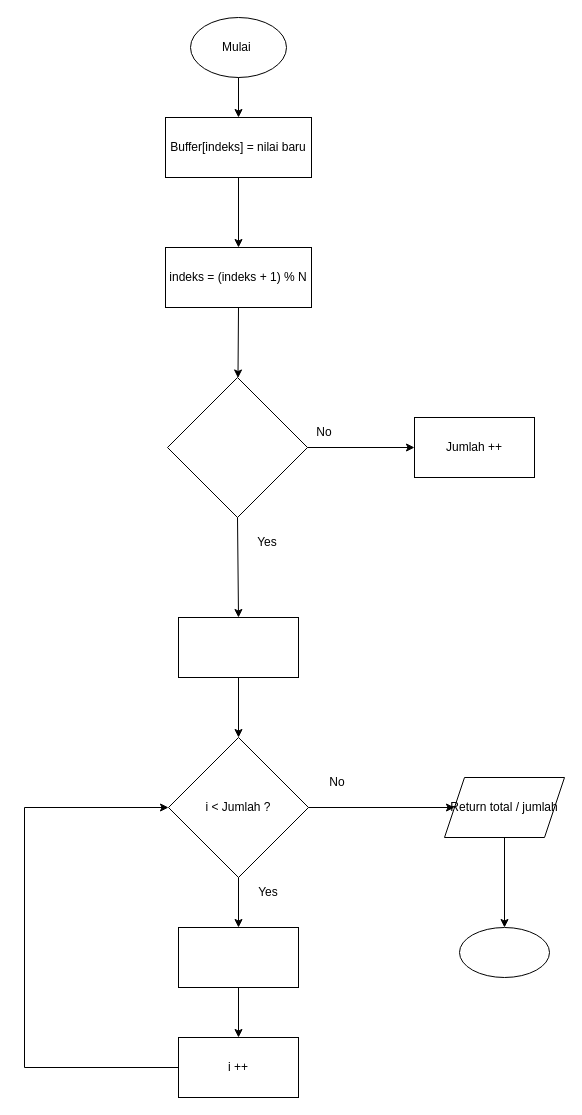
The diagram is 582 pixels wide and 1115 high, and some of its shapes have lost their labels. Here are the shapes that lost their labels. From the top down, the box of each, then its label:
(166, 376, 308, 518): Jumlah < N ?
(178, 616, 298, 678): Total = 0, i = o
(178, 926, 298, 988): total += buffer[i]
(458, 926, 550, 978): Selesai
